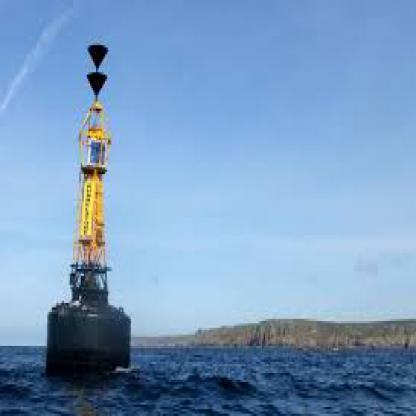buoy: (41, 34, 139, 380)
